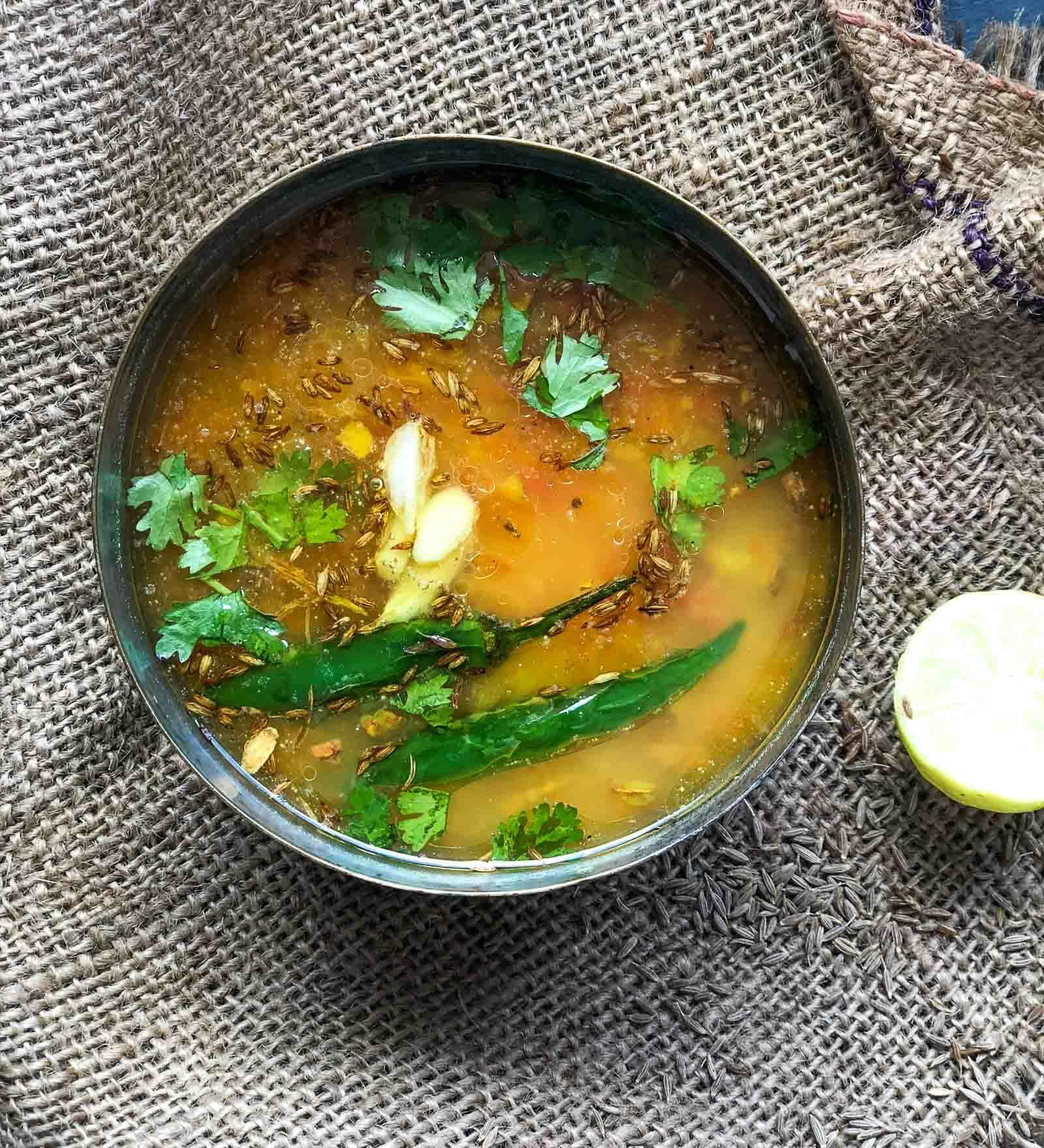Dal: (123, 170, 835, 862)
